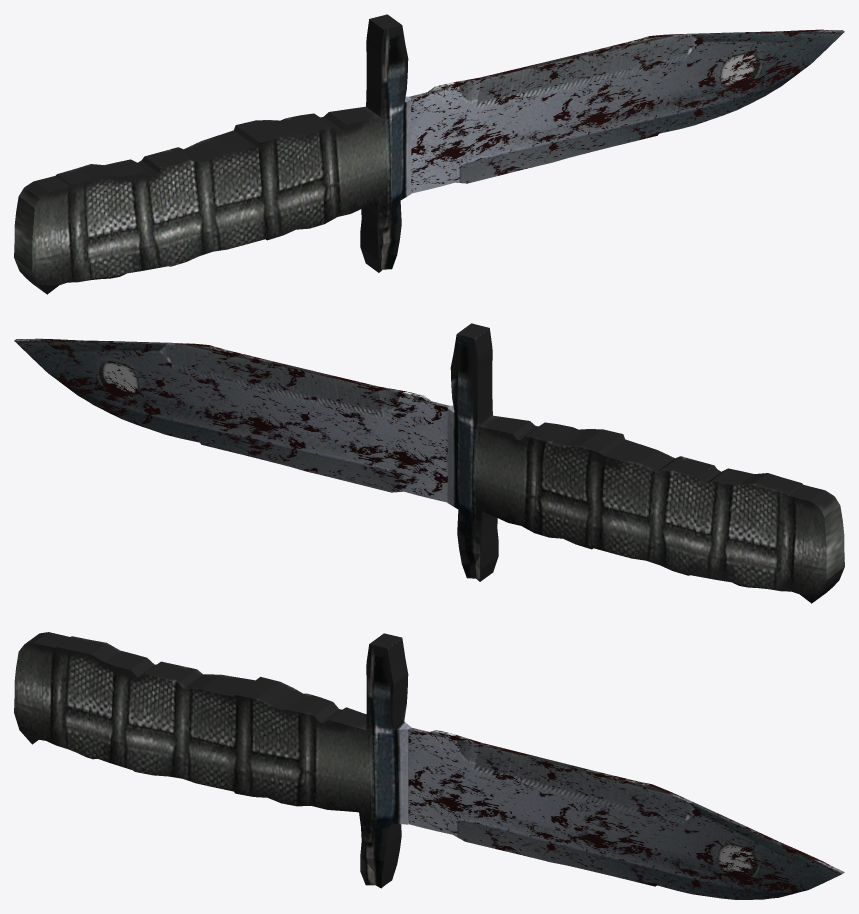
File: bıcak.fbx
The picture shows the model from 3 angles, top to bottom: view 1: azimuth 30°, elevation 25°; view 2: azimuth 150°, elevation 25°; view 3: azimuth 330°, elevation 25°; orthographic projection.
Visible parts, largest first — view 1: BezierCurve.001, BezierCurve; view 2: BezierCurve.001, BezierCurve; view 3: BezierCurve.001, BezierCurve.
Part boxes in pixels (<box>): BezierCurve.001: <box>14,14,411,294</box>; BezierCurve: <box>409,29,844,193</box>; BezierCurve.001: <box>447,323,844,603</box>; BezierCurve: <box>14,338,449,502</box>; BezierCurve.001: <box>14,632,411,888</box>; BezierCurve: <box>408,727,844,899</box>.
Size of the model in its own units: 419 by 119 by 31.93.
2 materials, 2 textured.
